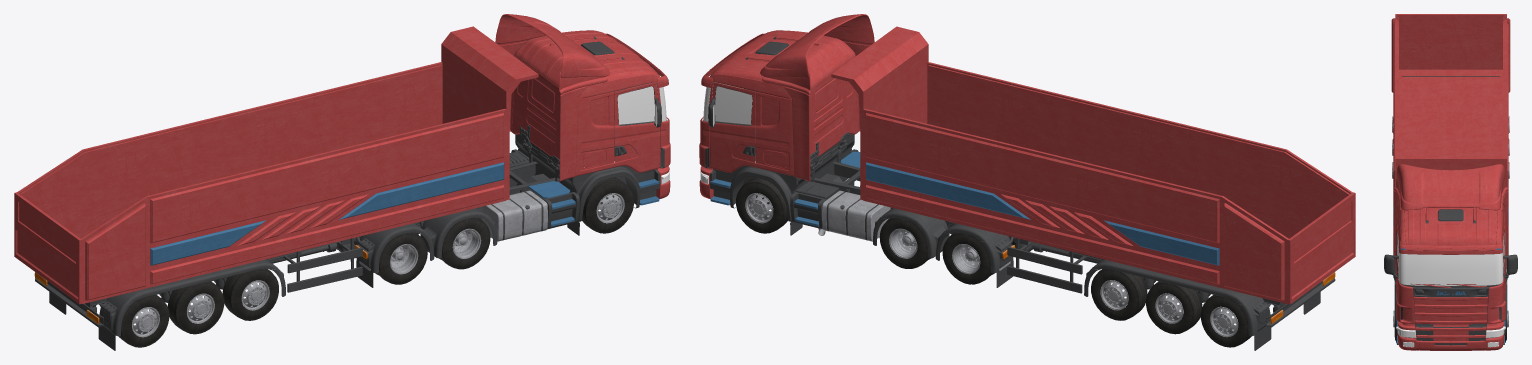
3 views of the same model, side by side, from view 1: azimuth 30°, elevation 25°; view 2: azimuth 150°, elevation 25°; view 3: azimuth 270°, elevation 25° (orthographic). The views are drawn at different scales.
Visible parts, largest first — view 1: 空车12, 空车02, 空车08, 空车06, 空车04, 空车09, 空车07, 空车03; view 2: 空车12, 空车02, 空车08, 空车06, 空车04, 空车09, 空车07, 空车03; view 3: 空车12, 空车02, 空车07, 空车08, 空车05, 空车04, 空车03.
Part boxes in pixels (<box>): 空车12: <box>14,26,538,304</box>; 空车02: <box>495,14,670,199</box>; 空车08: <box>35,36,667,350</box>; 空车06: <box>118,177,633,347</box>; 空车04: <box>132,190,624,337</box>; 空车09: <box>150,162,504,265</box>; 空车07: <box>617,82,666,124</box>; 空车03: <box>528,79,668,226</box>; 空车12: <box>831,26,1355,304</box>; 空车02: <box>699,14,874,199</box>; 空车08: <box>702,36,1335,350</box>; 空车06: <box>736,177,1251,347</box>; 空车04: <box>745,190,1238,337</box>; 空车09: <box>866,162,1219,265</box>; 空车07: <box>703,82,752,124</box>; 空车03: <box>701,79,860,226</box>; 空车12: <box>1391,14,1510,241</box>; 空车02: <box>1393,164,1508,350</box>; 空车07: <box>1397,233,1504,285</box>; 空车08: <box>1384,76,1517,346</box>; 空车05: <box>1396,326,1505,347</box>; 空车04: <box>1392,116,1509,327</box>; 空车03: <box>1395,248,1506,344</box>.
Size of the model in its own units: 12.23 by 3.62 by 2.76.
11 materials, 8 textured.
